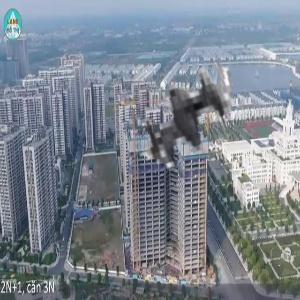drone: (113, 41, 256, 184)
